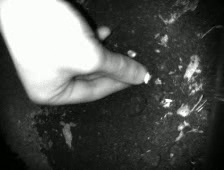corn: (141, 70, 153, 85), (124, 48, 138, 58)
